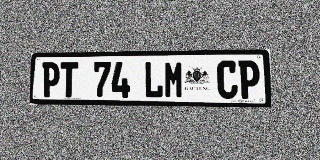4: (111, 62, 130, 98)
7: (92, 62, 111, 98)
C: (217, 60, 238, 99)
L: (144, 61, 163, 98)
M: (164, 61, 184, 98)
P: (238, 60, 260, 99), (42, 62, 60, 97)
T: (60, 62, 78, 98)
